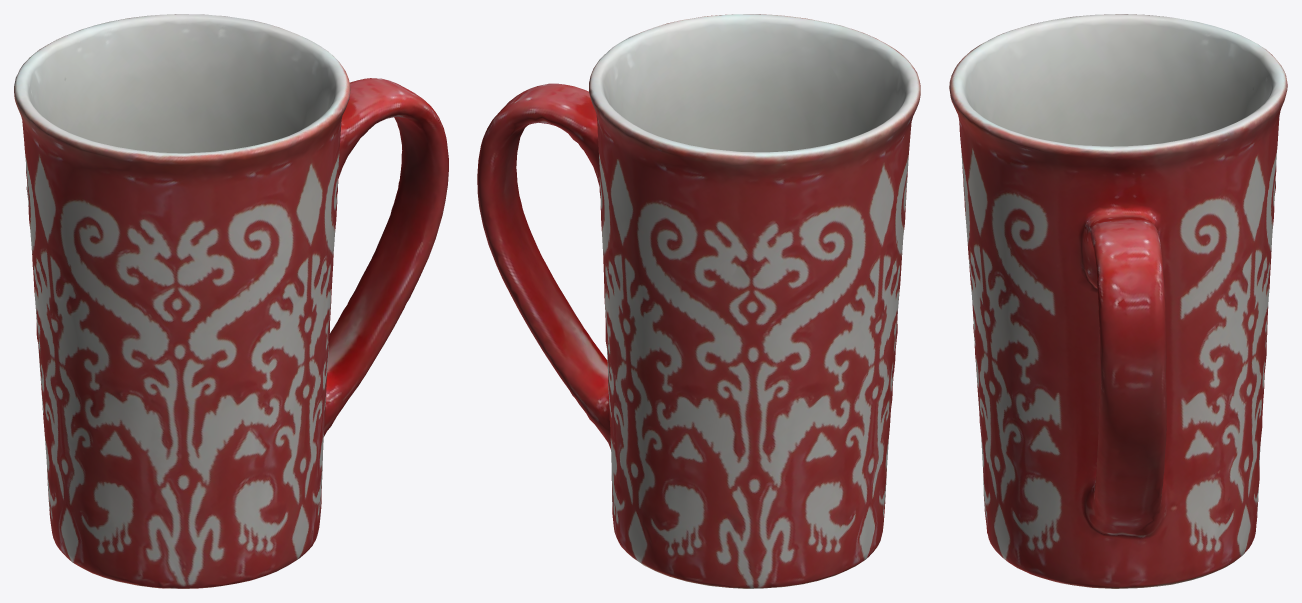
The model's file is mug-0.glb.
3 renders of one model, left to right at view 1: azimuth 30°, elevation 25°; view 2: azimuth 150°, elevation 25°; view 3: azimuth 270°, elevation 25°, orthographic.
Visible parts, largest first — view 1: ACE_Coffee_Mug_Kristen_16_oz_cup; view 2: ACE_Coffee_Mug_Kristen_16_oz_cup; view 3: ACE_Coffee_Mug_Kristen_16_oz_cup.
Boxes of the visible parts, bbox=[...] form: ACE_Coffee_Mug_Kristen_16_oz_cup: bbox=[14, 14, 448, 588]; ACE_Coffee_Mug_Kristen_16_oz_cup: bbox=[477, 14, 920, 588]; ACE_Coffee_Mug_Kristen_16_oz_cup: bbox=[949, 14, 1287, 588].
Size of the model in its own units: 0.1263 by 0.1349 by 0.0906.
1 material, 1 textured.
